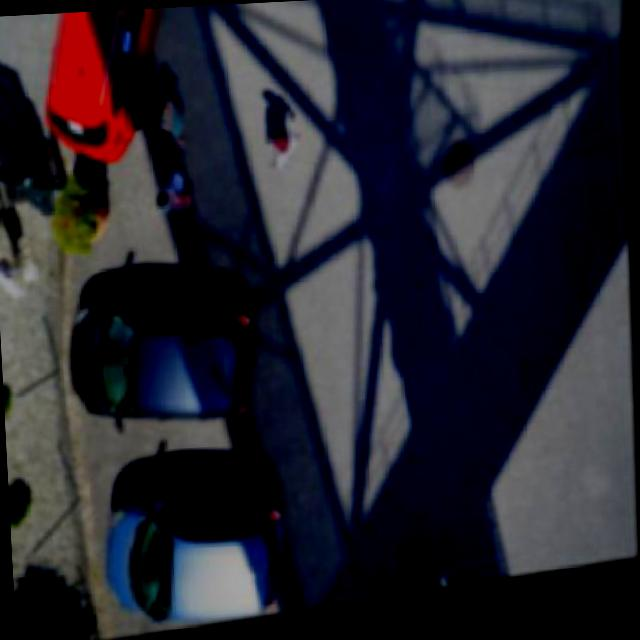Person: (150, 82, 194, 158), (266, 126, 308, 176), (149, 180, 196, 223)
